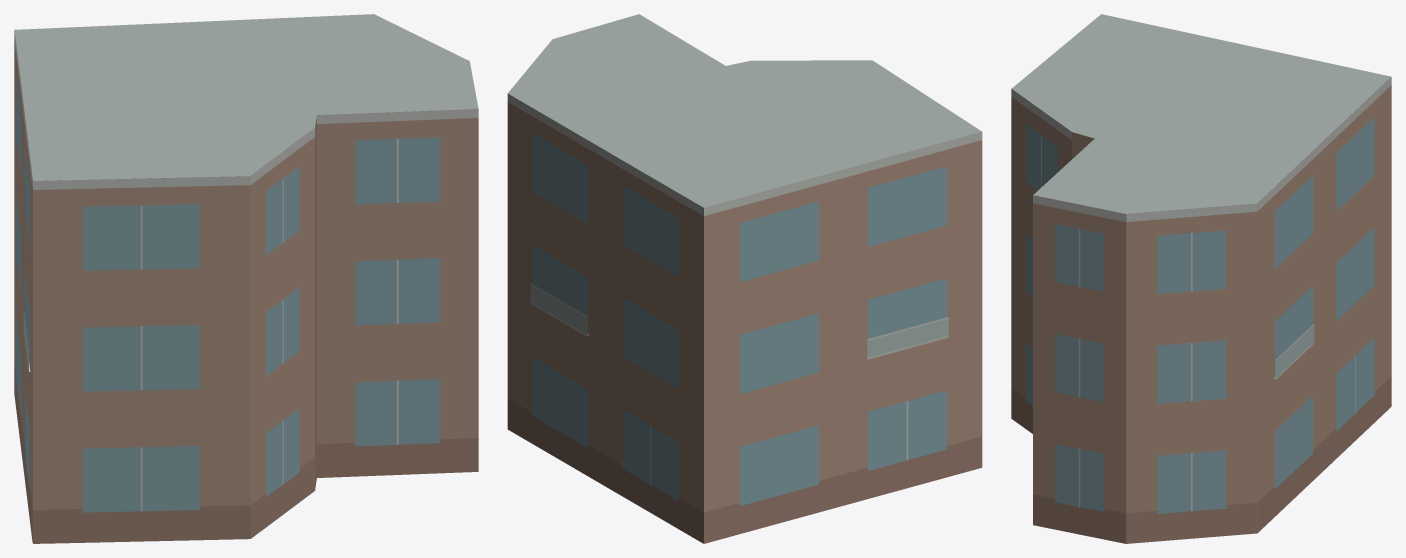
Rendered from survey-upis-32517320.glb.
3 renders of one model, left to right at view 1: azimuth 30°, elevation 25°; view 2: azimuth 150°, elevation 25°; view 3: azimuth 270°, elevation 25°, orthographic. The views are drawn at different scales.
Parts seen in each view (by area): view 1: survey-upis-32517320.tmp; view 2: survey-upis-32517320.tmp; view 3: survey-upis-32517320.tmp.
Part boxes in pixels (<box>): survey-upis-32517320.tmp: <box>14,14,478,543</box>; survey-upis-32517320.tmp: <box>507,14,982,543</box>; survey-upis-32517320.tmp: <box>1011,14,1391,543</box>.
Size of the model in its own units: 12.75 by 9.8 by 10.24.
